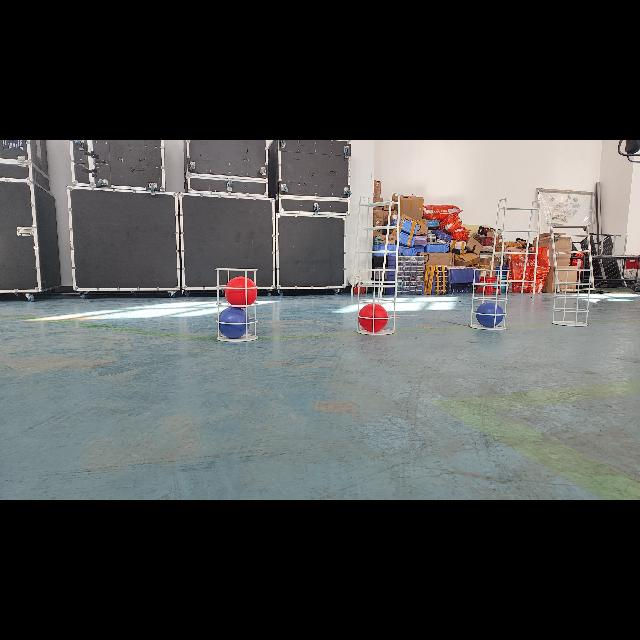B: (218, 306, 250, 338), (476, 302, 506, 328)
R: (225, 276, 257, 306), (360, 304, 390, 332)
S: (212, 266, 262, 344), (352, 267, 400, 337), (548, 264, 594, 328), (467, 268, 513, 332)
